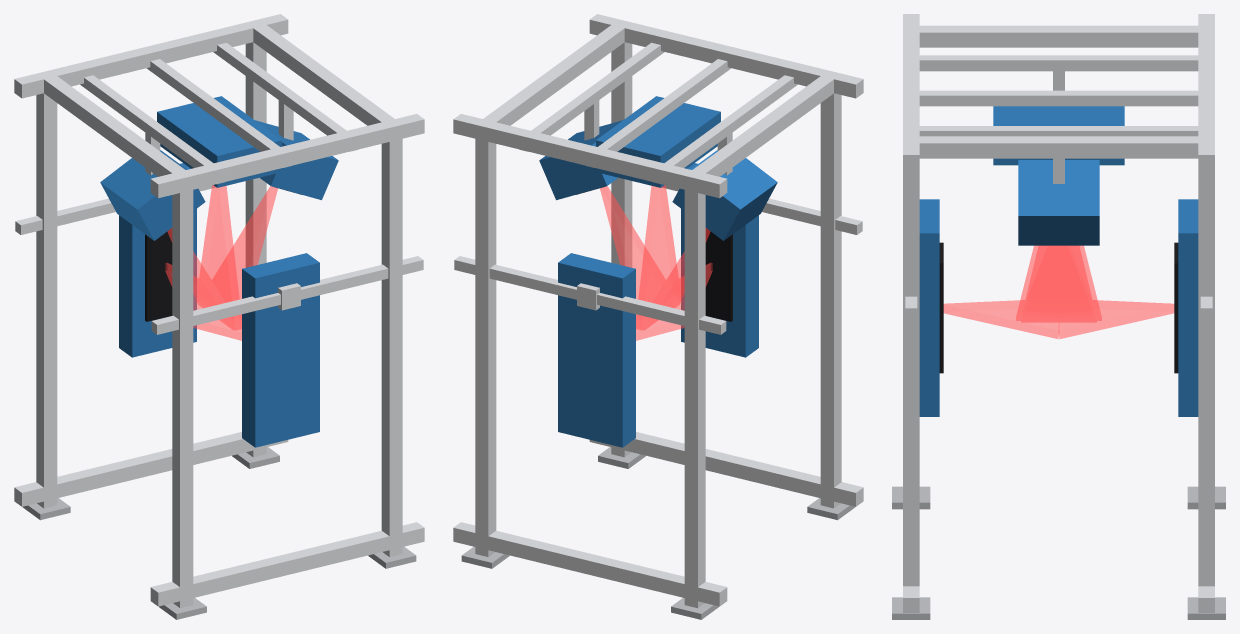
Rendered from ScanTunnel.glb.
3 views of the same model, side by side, from view 1: azimuth 30°, elevation 25°; view 2: azimuth 150°, elevation 25°; view 3: azimuth 270°, elevation 25° (orthographic). The views are drawn at different scales.
Parts seen in each view (by area): view 1: camS_R_-0.75, post_-1.30_-0.62, post_-0.20_-0.62, post_-1.30_0.62, toprail_-0.62, baserail_-0.62, toprail_0.62, baserail_0.62, camS_L_-0.75, camTop_-0.75, xbeam_-0.20, xbeam_-1.30 (+13 smaller); view 2: camS_L_-0.75, post_-1.30_0.62, post_-0.20_0.62, post_-1.30_-0.62, toprail_0.62, baserail_0.62, toprail_-0.62, baserail_-0.62, camS_R_-0.75, camTop_-0.75, xbeam_-0.20, xbeam_-1.30 (+14 smaller); view 3: post_-0.20_0.62, post_-0.20_-0.62, camEnd_trail, xbeam_-0.20, xbeam_-1.30, camTop_-0.75_beam, mountbar, mount_lead, camS_L_-0.75, camS_R_-0.75, camEnd_trail_beam, camTop_-0.75 (+12 smaller).
Part boxes in pixels (x1,y1,x2,y2): camS_R_-0.75: (242,253,319,447); post_-1.30_-0.62: (172,183,193,608); post_-0.20_-0.62: (381,132,402,556); post_-1.30_0.62: (36,93,57,508); toprail_-0.62: (150,114,424,198); baserail_-0.62: (150,522,424,606); toprail_0.62: (14,14,288,98); baserail_0.62: (14,432,288,506); camS_L_-0.75: (119,163,196,357); camTop_-0.75: (157,96,281,187); xbeam_-0.20: (246,19,402,139); xbeam_-1.30: (36,72,193,190); camS_L_-0.75: (558,253,635,447); post_-1.30_0.62: (684,183,705,608); post_-0.20_0.62: (475,132,496,556); post_-1.30_-0.62: (820,93,841,508); toprail_0.62: (453,114,727,198); baserail_0.62: (453,522,727,606); toprail_-0.62: (589,14,863,98); baserail_-0.62: (589,432,863,506); camS_R_-0.75: (681,163,758,357); camTop_-0.75: (596,96,720,187); xbeam_-0.20: (475,19,631,140); xbeam_-1.30: (684,72,840,185); post_-0.20_0.62: (1198,170,1214,586); post_-0.20_-0.62: (903,170,919,586); camEnd_trail: (1018,160,1099,245); xbeam_-0.20: (903,136,1214,158); xbeam_-1.30: (903,25,1214,47); camTop_-0.75_beam: (1016,245,1101,320); mountbar: (919,90,1198,106); mount_lead: (919,55,1198,71); camS_L_-0.75: (1178,199,1198,416); camS_R_-0.75: (919,199,939,416); camEnd_trail_beam: (1021,245,1096,322); camTop_-0.75: (993,106,1124,165).
Size of the model in its own units: 1.4 by 2.19 by 1.4.
